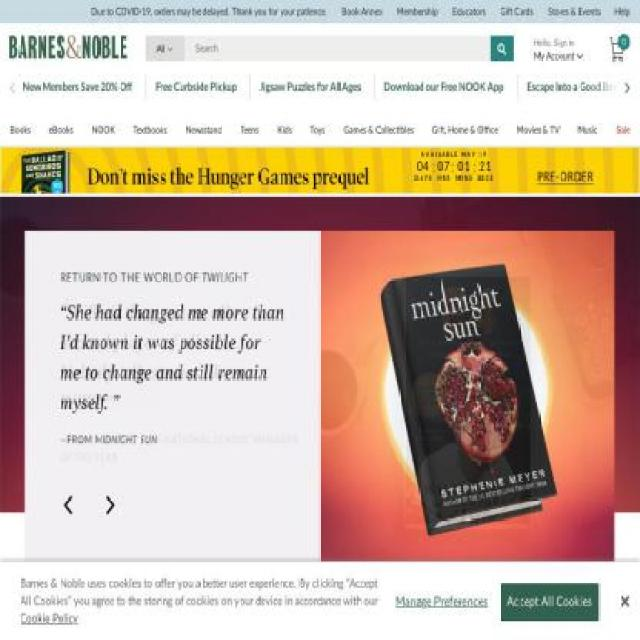button: (0, 196, 640, 564), (0, 147, 640, 196), (8, 30, 127, 64), (500, 583, 600, 622), (389, 584, 488, 621), (90, 6, 328, 17), (343, 117, 414, 146), (432, 117, 499, 146), (383, 83, 509, 94), (22, 83, 138, 94), (516, 117, 559, 146), (259, 83, 367, 94), (526, 83, 628, 94), (184, 117, 222, 146), (132, 117, 168, 146), (533, 49, 584, 69), (155, 83, 242, 94), (145, 36, 183, 61), (20, 611, 78, 627), (49, 117, 74, 146), (92, 117, 115, 146), (9, 117, 31, 146), (577, 117, 598, 146), (240, 117, 260, 146), (548, 6, 600, 17), (615, 117, 631, 146), (396, 6, 438, 17), (533, 37, 575, 48), (608, 37, 627, 61), (341, 6, 382, 17), (277, 117, 292, 146), (310, 117, 325, 146), (64, 489, 73, 531), (106, 489, 115, 531), (452, 6, 486, 17), (500, 6, 534, 17), (614, 6, 631, 17), (625, 109, 630, 125), (10, 80, 15, 95), (625, 80, 630, 95)
field: (195, 36, 491, 61)
